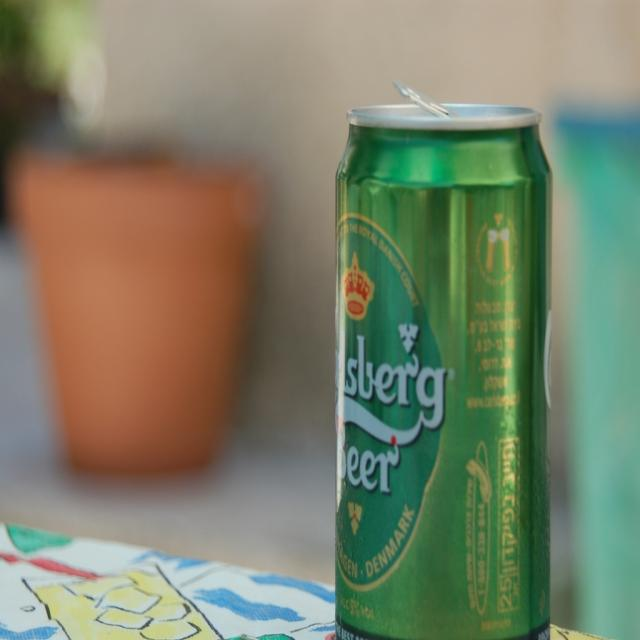carlsberg: (331, 213, 453, 591)
